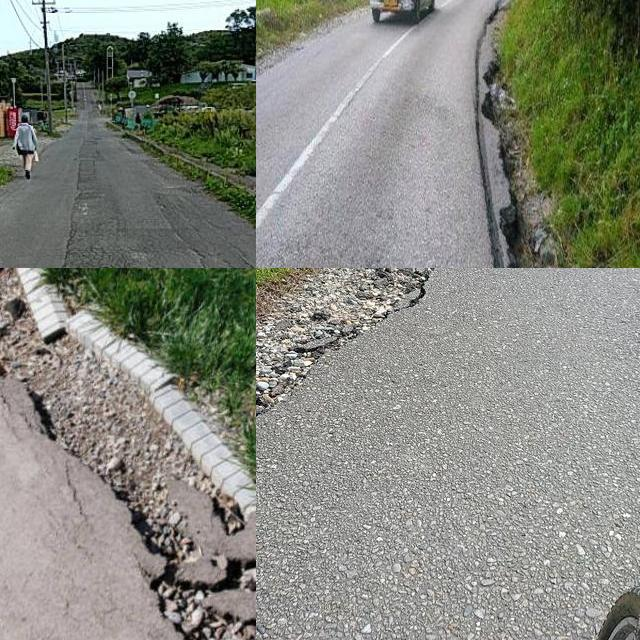Pinggir: (0, 268, 256, 640), (450, 0, 587, 268), (256, 268, 468, 423)
